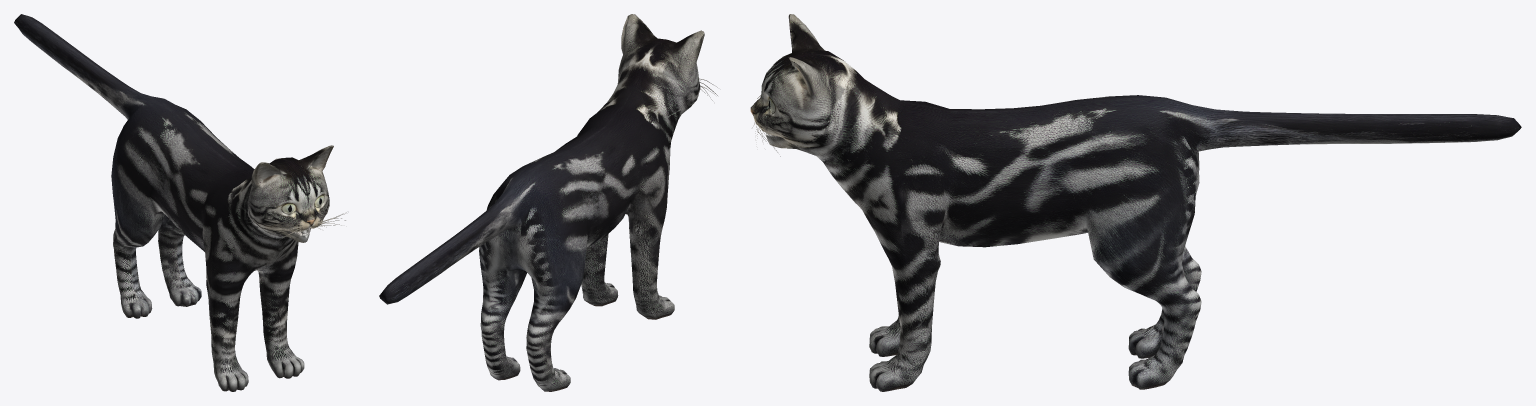
The picture shows the model from 3 angles, left to right: view 1: azimuth 30°, elevation 25°; view 2: azimuth 150°, elevation 25°; view 3: azimuth 270°, elevation 25°; orthographic projection. The views are drawn at different scales.
Visible parts, largest first — view 1: Mesh_0; view 2: Mesh_0; view 3: Mesh_0.
Boxes of the visible parts, x1,y1,x2,y2 form: Mesh_0: (14,14,346,391); Mesh_0: (379,14,717,391); Mesh_0: (750,14,1521,391).
Bounding box in the file's own units: 38.85 × 94.53 × 200.
Materials: 1 (1 with a texture image).
